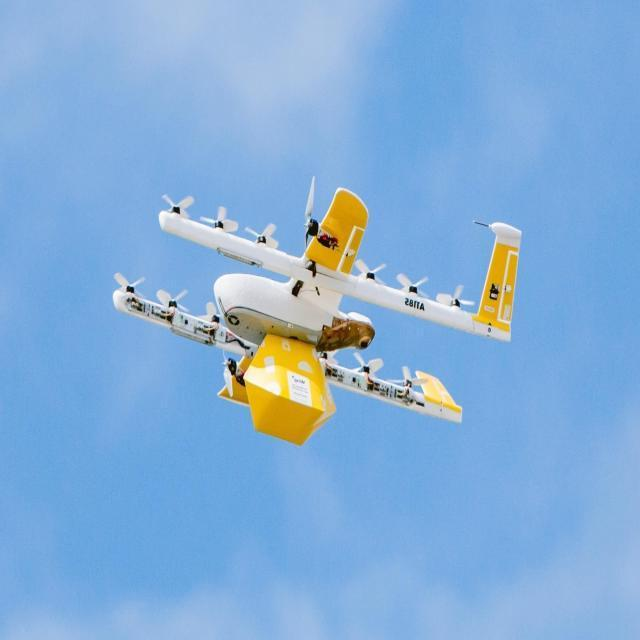iha: (95, 188, 545, 440)
